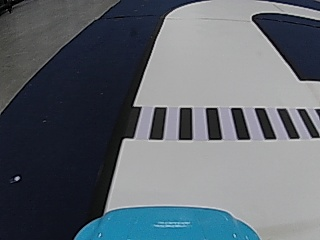CrossWalk: (124, 101, 319, 143)
